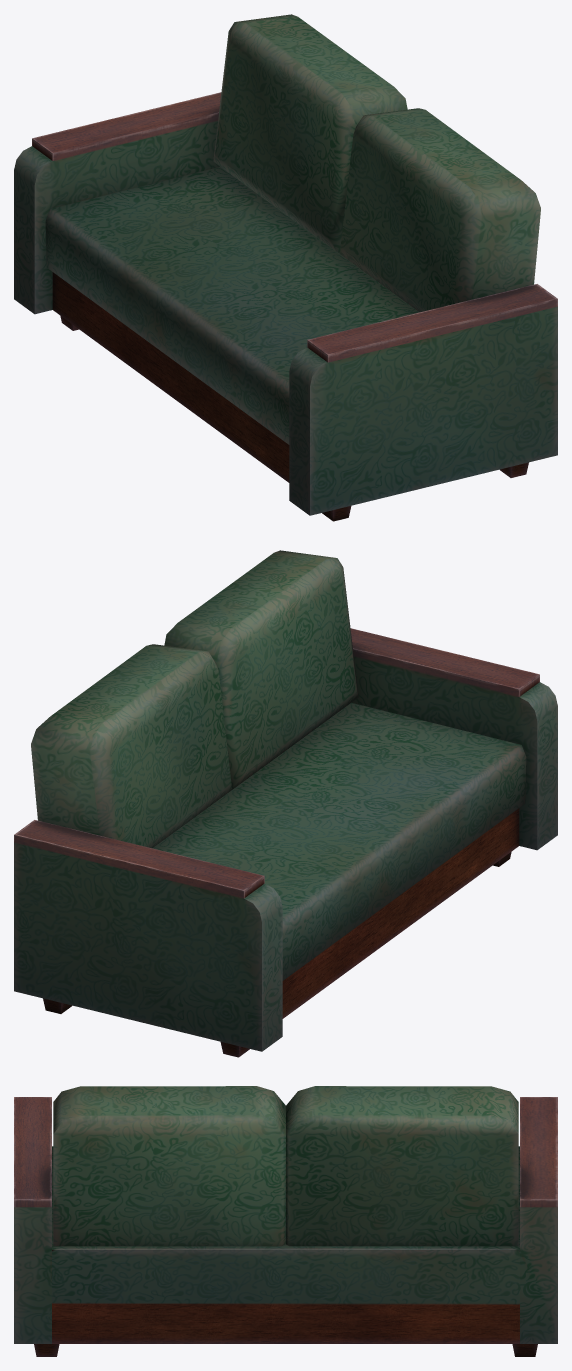
The picture shows the model from 3 angles, top to bottom: view 1: azimuth 30°, elevation 25°; view 2: azimuth 150°, elevation 25°; view 3: azimuth 270°, elevation 25°; orthographic projection. The views are drawn at different scales.
Parts seen in each view (by area): view 1: MSH_Sofa_Soviet; view 2: MSH_Sofa_Soviet; view 3: MSH_Sofa_Soviet.
Part boxes in pixels (bbox=[...]): MSH_Sofa_Soviet: bbox=[14, 14, 557, 521]; MSH_Sofa_Soviet: bbox=[14, 550, 557, 1057]; MSH_Sofa_Soviet: bbox=[14, 1086, 557, 1356].
Size of the model in its own units: 101 by 106 by 205.
1 material, 1 textured.
